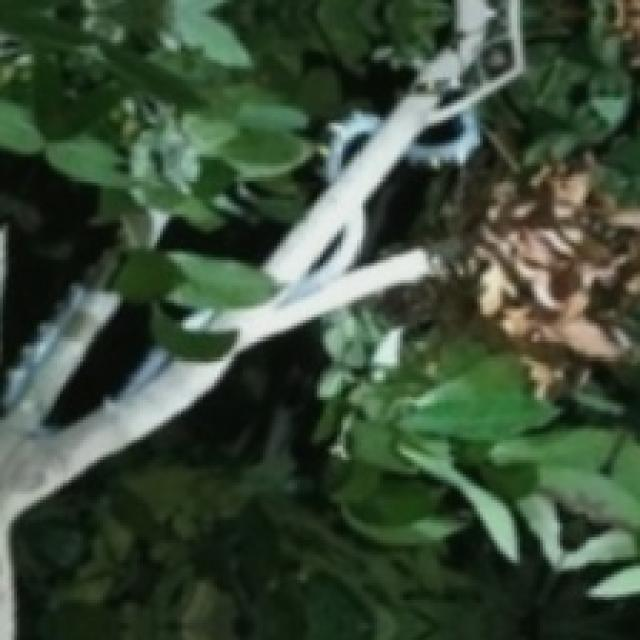mangrove cat snake: (8, 285, 81, 411), (301, 210, 363, 288), (411, 110, 480, 169), (329, 110, 379, 188), (125, 349, 169, 397), (180, 309, 214, 331)
